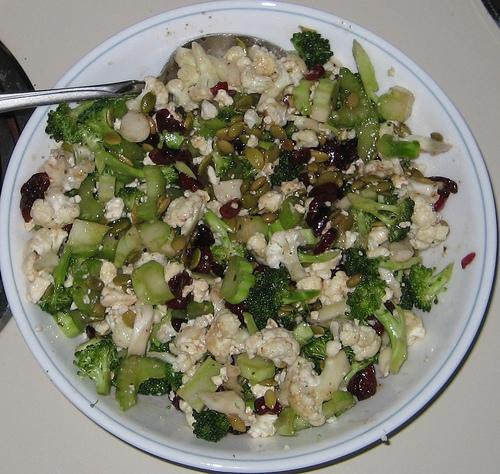broccoli: (345, 278, 407, 374), (239, 265, 320, 331), (327, 67, 379, 164), (78, 98, 147, 170), (348, 192, 415, 243), (94, 148, 179, 185), (332, 248, 422, 279), (202, 209, 248, 267), (73, 340, 120, 396), (38, 246, 74, 314), (45, 99, 101, 142), (410, 261, 454, 313), (286, 31, 334, 70), (69, 176, 106, 223), (342, 346, 380, 384), (347, 206, 378, 251), (192, 408, 231, 442), (376, 134, 421, 160), (304, 332, 334, 362), (272, 406, 299, 436), (116, 187, 145, 212), (210, 150, 236, 177), (185, 295, 214, 319), (137, 378, 172, 397), (398, 274, 416, 310), (157, 130, 186, 150), (266, 218, 285, 243), (66, 257, 88, 278), (148, 336, 176, 352), (257, 129, 275, 151), (241, 384, 255, 412), (218, 106, 239, 119)
cauliflower: (274, 350, 352, 426), (396, 191, 450, 251), (256, 55, 309, 108), (206, 308, 250, 364), (264, 229, 308, 281), (128, 300, 167, 358), (245, 327, 300, 368), (339, 318, 382, 360), (163, 194, 203, 236), (381, 309, 426, 346), (126, 76, 169, 114), (28, 227, 68, 258), (179, 314, 214, 344), (256, 97, 288, 128), (100, 282, 138, 308), (240, 65, 274, 94), (248, 44, 278, 76), (169, 326, 200, 356), (324, 270, 350, 304), (189, 74, 220, 102), (221, 46, 252, 73), (246, 232, 269, 266), (247, 414, 278, 438), (176, 65, 200, 93), (28, 276, 51, 304), (368, 226, 390, 251), (104, 197, 126, 222), (258, 192, 284, 212), (163, 261, 186, 283), (61, 181, 73, 193), (184, 338, 192, 343)
